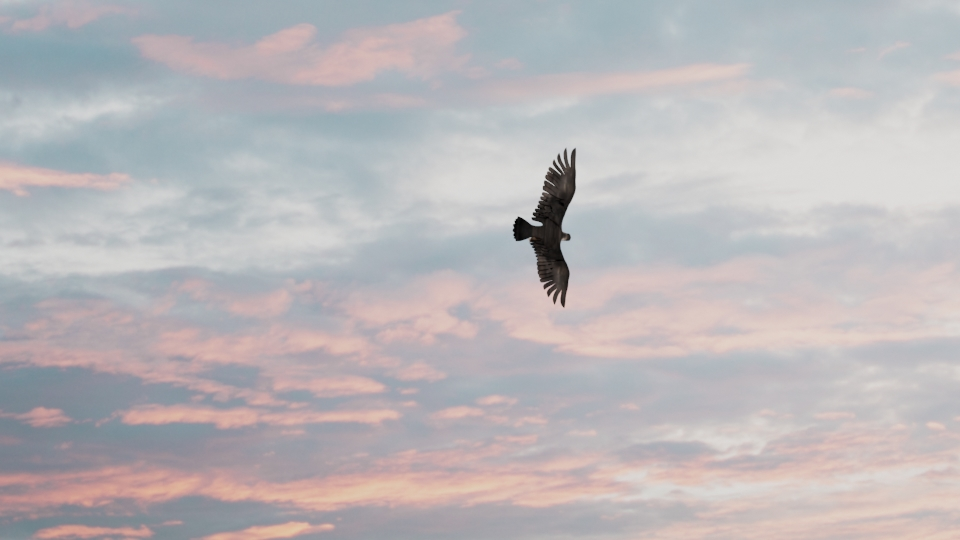bird: (513, 144, 580, 308)
